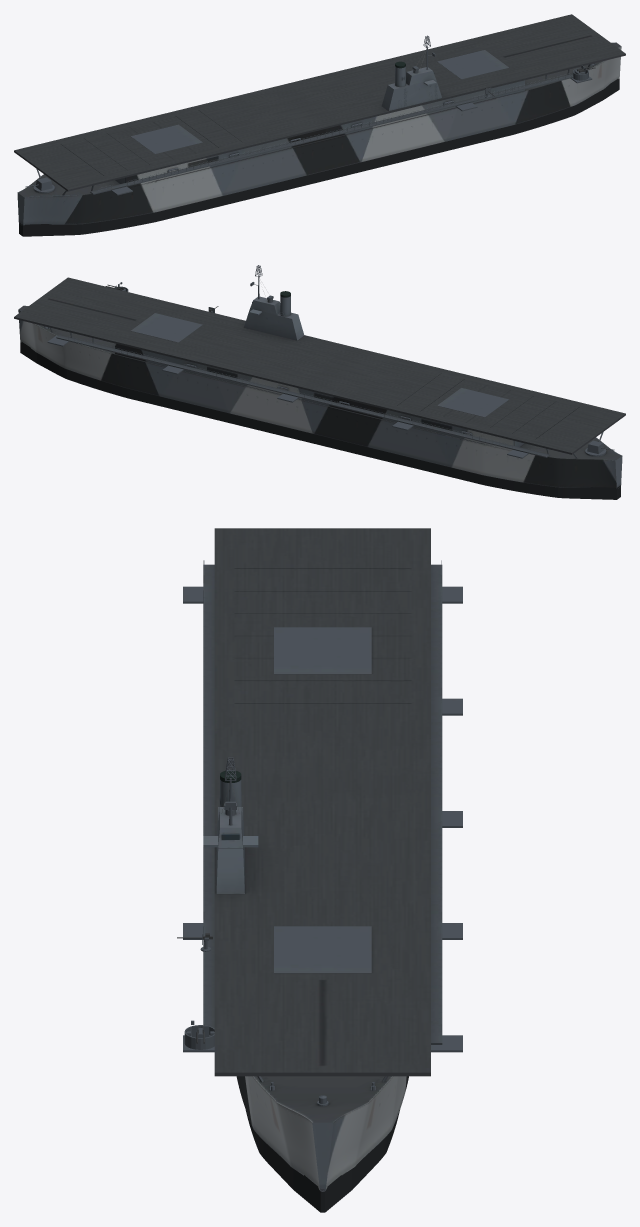
File: casablanca-cve.glb
The picture shows the model from 3 angles, top to bottom: view 1: azimuth 30°, elevation 25°; view 2: azimuth 150°, elevation 25°; view 3: azimuth 270°, elevation 25°; orthographic projection. The views are drawn at different scales.
Visible parts, largest first — view 1: casablanca-cve_dark, FlightDeck, Skirt; view 2: casablanca-cve_dark, FlightDeck, Skirt; view 3: FlightDeck, casablanca-cve_dark, Skirt.
Part boxes in pixels (x1,y1,x2,y2): casablanca-cve_dark: (17, 35, 621, 225); FlightDeck: (14, 14, 625, 191); Skirt: (19, 79, 619, 236); casablanca-cve_dark: (18, 265, 622, 488); FlightDeck: (14, 277, 625, 454); Skirt: (20, 342, 620, 499); FlightDeck: (214, 528, 430, 1076); casablanca-cve_dark: (183, 560, 462, 1191); Skirt: (245, 1110, 399, 1212).
Bounding box in the file's own units: 156 × 30.44 × 32.23.
4 materials, 1 textured.
